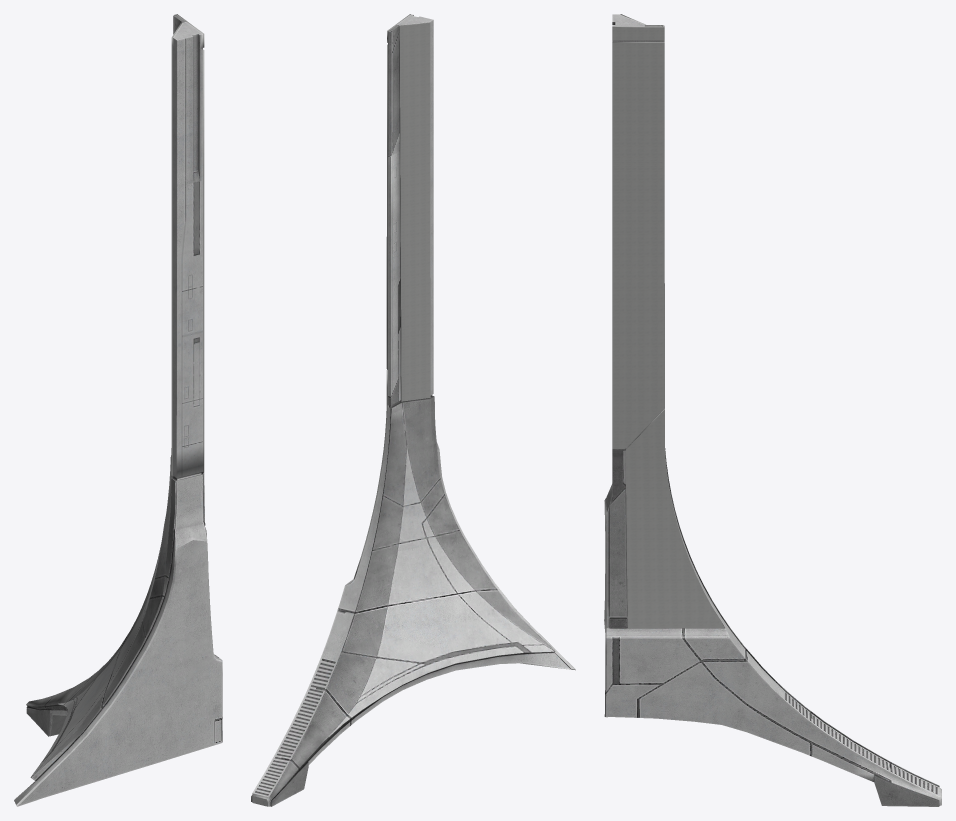
The model's file is MainIsland_Building_Close2.FBX.
3 renders of one model, left to right at view 1: azimuth 30°, elevation 25°; view 2: azimuth 150°, elevation 25°; view 3: azimuth 270°, elevation 25°, orthographic. The views are drawn at different scales.
Visible parts, largest first — view 1: MainIsland_Building_Close2; view 2: MainIsland_Building_Close2; view 3: MainIsland_Building_Close2.
Part boxes in pixels (x1,y1,x2,y2): MainIsland_Building_Close2: (14, 14, 222, 806); MainIsland_Building_Close2: (251, 14, 575, 806); MainIsland_Building_Close2: (604, 14, 941, 806).
Bounding box in the file's own units: 81.87 × 303 × 120.
